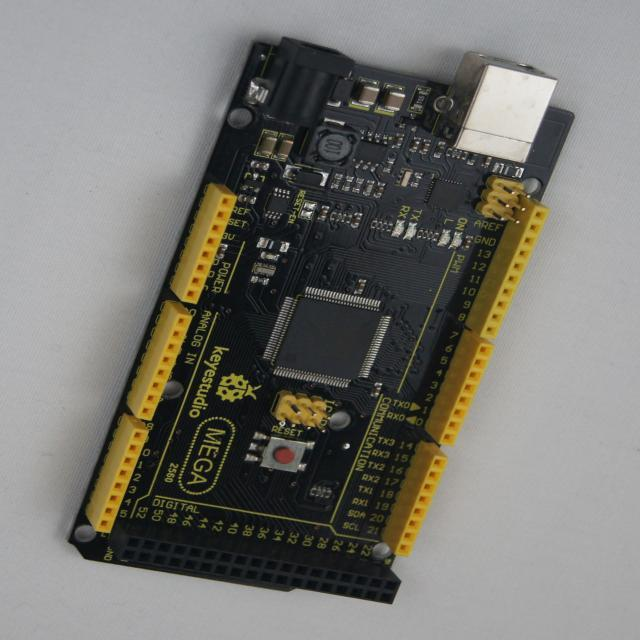Arduino Mega 2560 -Yellow-: (71, 39, 574, 604)
